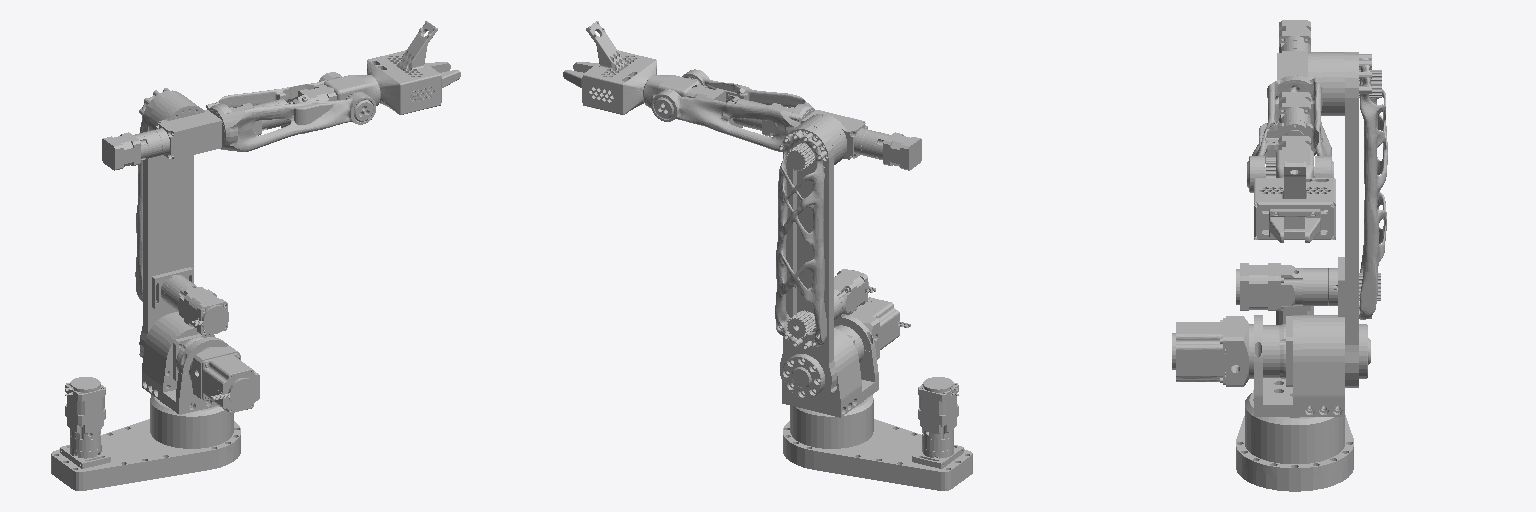
The robot description file, URDF, robot "gripper_end_effector":
<?xml version="1.0" encoding="utf-8"?>
<!-- This URDF was automatically created by SolidWorks to URDF Exporter! Originally created by [author] ([email redacted]) 
     Commit Version: 1.6.0-4-g7f85cfe  Build Version: 1.6.7995.38578
     For more information, please see http://wiki.ros.org/sw_urdf_exporter -->
<robot
  name="gripper_end_effector">
  <link
    name="base_link">
    <inertial>
      <origin
        xyz="-0.038799 0.039037 -5.6771E-08"
        rpy="0 0 0" />
      <mass
        value="4.037" />
      <inertia
        ixx="0.0047485"
        ixy="2.5452E-06"
        ixz="-6.9936E-08"
        iyy="0.015979"
        iyz="4.4737E-10"
        izz="0.01214" />
    </inertial>
    <visual>
      <origin
        xyz="0 0 0"
        rpy="0 0 0" />
      <geometry>
        <mesh
          filename="package://gripper_end_effector/meshes/base_link.STL" />
      </geometry>
      <material
        name="">
        <color
          rgba="0.75294 0.75294 0.75294 1" />
      </material>
    </visual>
    <collision>
      <origin
        xyz="0 0 0"
        rpy="0 0 0" />
      <geometry>
        <mesh
          filename="package://gripper_end_effector/meshes/base_link.STL" />
      </geometry>
    </collision>
  </link>
  <link
    name="j2">
    <inertial>
      <origin
        xyz="-0.021245 4.8231E-05 -0.10539"
        rpy="0 0 0" />
      <mass
        value="0.97731" />
      <inertia
        ixx="0.00070562"
        ixy="-1.9214E-07"
        ixz="2.8678E-06"
        iyy="0.00051951"
        iyz="3.1462E-07"
        izz="0.00067989" />
    </inertial>
    <visual>
      <origin
        xyz="0 0 0"
        rpy="0 0 0" />
      <geometry>
        <mesh
          filename="package://gripper_end_effector/meshes/j2.STL" />
      </geometry>
      <material
        name="">
        <color
          rgba="0.75294 0.75294 0.75294 1" />
      </material>
    </visual>
    <collision>
      <origin
        xyz="0 0 0"
        rpy="0 0 0" />
      <geometry>
        <mesh
          filename="package://gripper_end_effector/meshes/j2.STL" />
      </geometry>
    </collision>
  </link>
  <joint
    name="j2"
    type="revolute">
    <origin
      xyz="0 0 0"
      rpy="3.1416 0 1.5708" />
    <parent
      link="base_link" />
    <child
      link="j2" />
    <axis
      xyz="0 0 1" />
    <limit
      lower="-1.57"
      upper="1.57"
      effort="50"
      velocity="10" />
  </joint>
  <link
    name="j3">
    <inertial>
      <origin
        xyz="0.04398 -5.3597E-05 -0.12806"
        rpy="0 0 0" />
      <mass
        value="0.68518" />
      <inertia
        ixx="0.0044141"
        ixy="-4.0767E-08"
        ixz="-1.4274E-05"
        iyy="0.004191"
        iyz="-9.0894E-07"
        izz="0.0003341" />
    </inertial>
    <visual>
      <origin
        xyz="0 0 0"
        rpy="0 0 0" />
      <geometry>
        <mesh
          filename="package://gripper_end_effector/meshes/j3.STL" />
      </geometry>
      <material
        name="">
        <color
          rgba="0.75294 0.75294 0.75294 1" />
      </material>
    </visual>
    <collision>
      <origin
        xyz="0 0 0"
        rpy="0 0 0" />
      <geometry>
        <mesh
          filename="package://gripper_end_effector/meshes/j3.STL" />
      </geometry>
    </collision>
  </link>
  <joint
    name="j3"
    type="revolute">
    <origin
      xyz="0 0 -0.1385"
      rpy="0 0 0" />
    <parent
      link="j2" />
    <child
      link="j3" />
    <axis
      xyz="1 0 0" />
    <limit
      lower="-1.57"
      upper="1.57"
      effort="50"
      velocity="10" />
  </joint>
  <link
    name="j4">
    <inertial>
      <origin
        xyz="0.015213 -0.035076 1.974E-06"
        rpy="0 0 0" />
      <mass
        value="0.23302" />
      <inertia
        ixx="7.0267E-05"
        ixy="1.3165E-09"
        ixz="2.8292E-14"
        iyy="6.7939E-05"
        iyz="8.3323E-14"
        izz="6.51E-05" />
    </inertial>
    <visual>
      <origin
        xyz="0 0 0"
        rpy="0 0 0" />
      <geometry>
        <mesh
          filename="package://gripper_end_effector/meshes/j4.STL" />
      </geometry>
      <material
        name="">
        <color
          rgba="0.75294 0.75294 0.75294 1" />
      </material>
    </visual>
    <collision>
      <origin
        xyz="0 0 0"
        rpy="0 0 0" />
      <geometry>
        <mesh
          filename="package://gripper_end_effector/meshes/j4.STL" />
      </geometry>
    </collision>
  </link>
  <joint
    name="j4"
    type="revolute">
    <origin
      xyz="0 0 -0.322"
      rpy="0 0 0" />
    <parent
      link="j3" />
    <child
      link="j4" />
    <axis
      xyz="1 0 0" />
    <limit
      lower="-1.57"
      upper="1.57"
      effort="50"
      velocity="10" />
  </joint>
  <link
    name="j5">
    <inertial>
      <origin
        xyz="-0.001844 0.10181 0.00027913"
        rpy="0 0 0" />
      <mass
        value="0.28259" />
      <inertia
        ixx="0.00065499"
        ixy="1.9322E-05"
        ixz="-1.3151E-06"
        iyy="0.00017713"
        iyz="8.4538E-07"
        izz="0.00074297" />
    </inertial>
    <visual>
      <origin
        xyz="0 0 0"
        rpy="0 0 0" />
      <geometry>
        <mesh
          filename="package://gripper_end_effector/meshes/j5.STL" />
      </geometry>
      <material
        name="">
        <color
          rgba="0.75294 0.75294 0.75294 1" />
      </material>
    </visual>
    <collision>
      <origin
        xyz="0 0 0"
        rpy="0 0 0" />
      <geometry>
        <mesh
          filename="package://gripper_end_effector/meshes/j5.STL" />
      </geometry>
    </collision>
  </link>
  <joint
    name="j5"
    type="revolute">
    <origin
      xyz="0 0 0"
      rpy="0 0 0" />
    <parent
      link="j4" />
    <child
      link="j5" />
    <axis
      xyz="0 1 0" />
    <limit
      lower="-1.57"
      upper="1.57"
      effort="50"
      velocity="10" />
  </joint>
  <link
    name="j6">
    <inertial>
      <origin
        xyz="-0.0013063 -0.0093348 -1.0804E-05"
        rpy="0 0 0" />
      <mass
        value="0.15216" />
      <inertia
        ixx="3.7125E-05"
        ixy="-1.2877E-06"
        ixz="5.119E-09"
        iyy="4.1674E-05"
        iyz="4.97E-08"
        izz="4.2099E-05" />
    </inertial>
    <visual>
      <origin
        xyz="0 0 0"
        rpy="0 0 0" />
      <geometry>
        <mesh
          filename="package://gripper_end_effector/meshes/j6.STL" />
      </geometry>
      <material
        name="">
        <color
          rgba="0.75294 0.75294 0.75294 1" />
      </material>
    </visual>
    <collision>
      <origin
        xyz="0 0 0"
        rpy="0 0 0" />
      <geometry>
        <mesh
          filename="package://gripper_end_effector/meshes/j6.STL" />
      </geometry>
    </collision>
  </link>
  <joint
    name="j6"
    type="revolute">
    <origin
      xyz="0 0.23275 0"
      rpy="0 0 0" />
    <parent
      link="j5" />
    <child
      link="j6" />
    <axis
      xyz="1 0 0" />
    <limit
      lower="-1.57"
      upper="1.57"
      effort="50"
      velocity="10" />
  </joint>
  <link
    name="ef">
    <inertial>
      <origin
        xyz="-6.4274E-05 0.062726 -0.0036376"
        rpy="0 0 0" />
      <mass
        value="0.167" />
      <inertia
        ixx="0.00014431"
        ixy="-1.1841E-06"
        ixz="-1.4094E-06"
        iyy="0.00016034"
        iyz="1.6608E-05"
        izz="0.00018457" />
    </inertial>
    <visual>
      <origin
        xyz="0 0 0"
        rpy="0 0 0" />
      <geometry>
        <mesh
          filename="package://gripper_end_effector/meshes/ef.STL" />
      </geometry>
      <material
        name="">
        <color
          rgba="0.75294 0.75294 0.75294 1" />
      </material>
    </visual>
    <collision>
      <origin
        xyz="0 0 0"
        rpy="0 0 0" />
      <geometry>
        <mesh
          filename="package://gripper_end_effector/meshes/ef.STL" />
      </geometry>
    </collision>
  </link>
  <joint
    name="ef"
    type="revolute">
    <origin
      xyz="0 0.02775 0"
      rpy="0 0 0" />
    <parent
      link="j6" />
    <child
      link="ef" />
    <axis
      xyz="0 1 0" />
    <limit
      lower="-1.57"
      upper="1.57"
      effort="50"
      velocity="10" />
  </joint>
</robot>

--- Facts derived from the render (not from the file) ---
The picture shows the robot from 3 angles, left to right: view 1: azimuth 30°, elevation 25°; view 2: azimuth 150°, elevation 25°; view 3: azimuth 270°, elevation 25°; orthographic projection.
Robot: gripper_end_effector — 7 links, 6 joints (6 revolute); root link base_link; default pose: every joint at zero.
Visible links, largest first — view 1: base_link, j3, j2, j5, j4, ef, j6; view 2: j3, base_link, j5, j2, ef, j4, j6; view 3: j3, j2, base_link, ef, j5, j4, j6.
Boxes of the visible links, box(x1,y1,x2,y2) form: base_link: box(51, 377, 240, 490); j3: box(135, 88, 228, 357); j2: box(142, 312, 259, 414); j5: box(206, 72, 375, 151); j4: box(102, 102, 221, 170); ef: box(367, 21, 460, 114); j6: box(298, 75, 380, 121); j3: box(775, 118, 875, 402); base_link: box(783, 377, 972, 490); j5: box(651, 69, 814, 151); j2: box(782, 297, 910, 417); ef: box(563, 21, 656, 114); j4: box(786, 110, 921, 170); j6: box(643, 75, 725, 118); j3: box(1236, 52, 1387, 387); j2: box(1172, 315, 1344, 417); base_link: box(1236, 306, 1353, 491); ef: box(1254, 161, 1335, 242); j5: box(1249, 75, 1331, 192); j4: box(1277, 20, 1381, 115); j6: box(1247, 136, 1333, 187).
Bounding box of the posed robot: 0.598 × 0.2365 × 0.5371 m (x, y, z).
Meshes: 7 distinct files referenced, 7 mesh visuals loaded (7 binary STL).